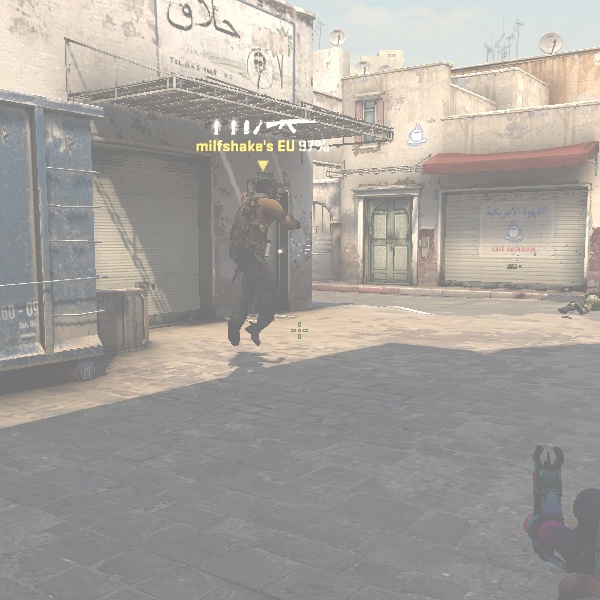t_body: (212, 173, 313, 361)
